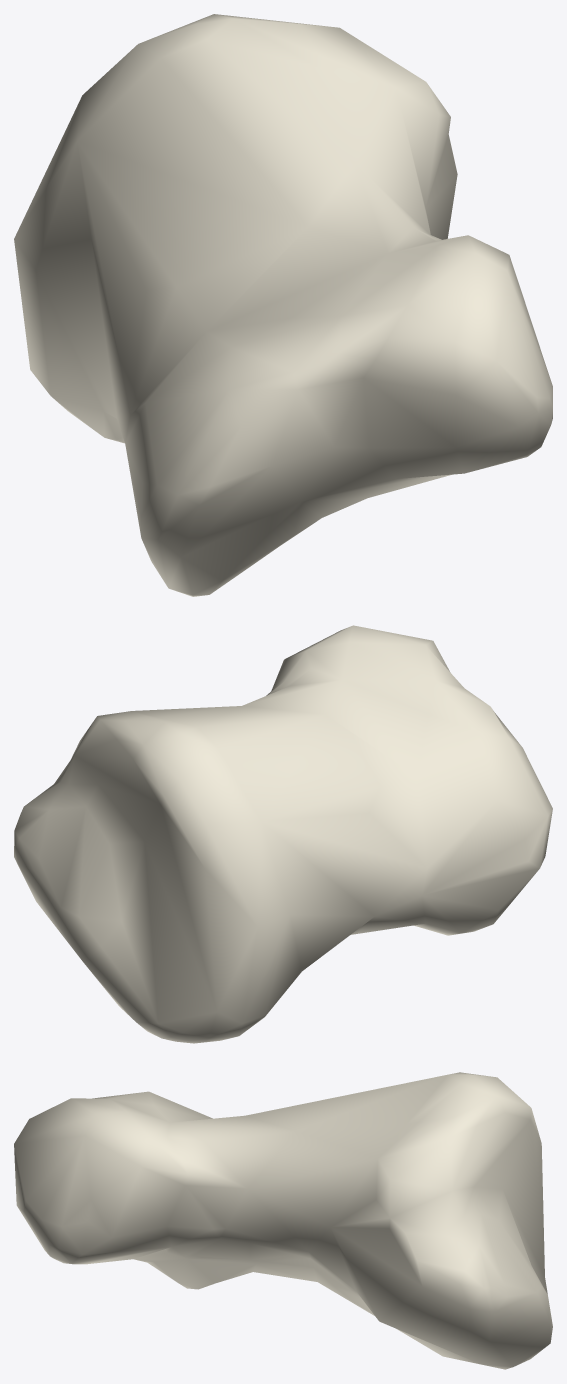
The picture shows the model from 3 angles, top to bottom: view 1: azimuth 30°, elevation 25°; view 2: azimuth 150°, elevation 25°; view 3: azimuth 270°, elevation 25°; orthographic projection. The views are drawn at different scales.
Visible parts, largest first — view 1: ZA_ec0e725e5b644c2f; view 2: ZA_ec0e725e5b644c2f; view 3: ZA_ec0e725e5b644c2f.
Part boxes in pixels (x1,y1,x2,y2): ZA_ec0e725e5b644c2f: (14,14,552,596); ZA_ec0e725e5b644c2f: (14,625,552,1043); ZA_ec0e725e5b644c2f: (14,1072,552,1369).
Size of the model in its own units: 0.0111 by 0.00834 by 0.0141.
